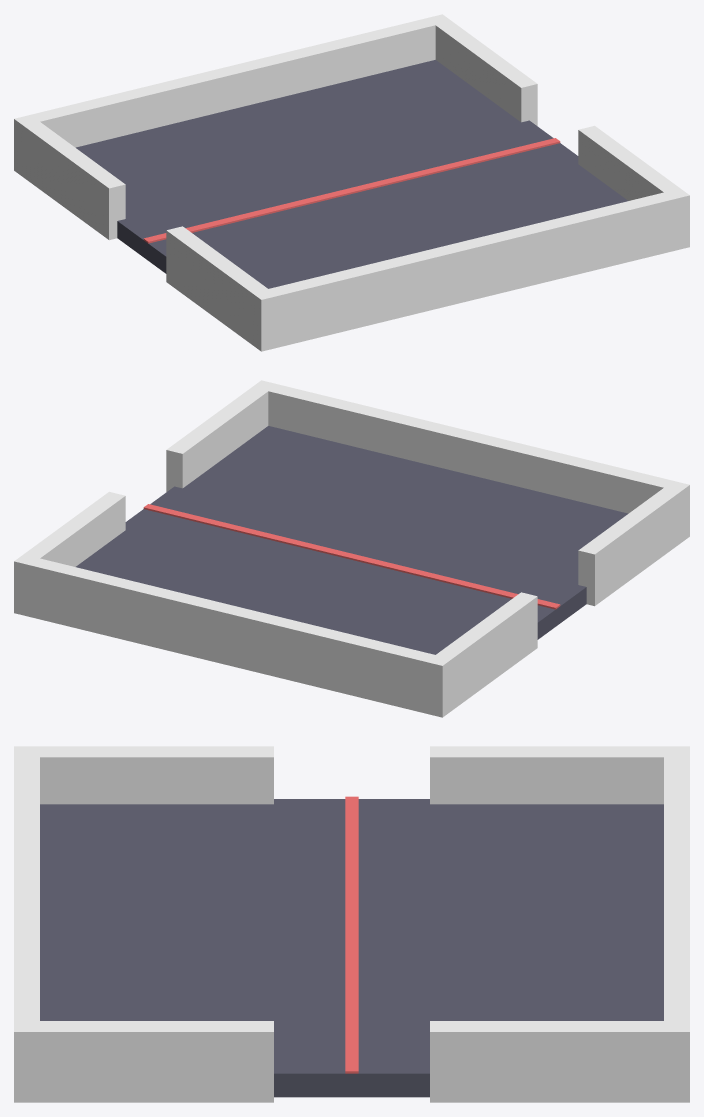
File: Pattern_I.fbx
The picture shows the model from 3 angles, top to bottom: view 1: azimuth 30°, elevation 25°; view 2: azimuth 150°, elevation 25°; view 3: azimuth 270°, elevation 25°; orthographic projection. The views are drawn at different scales.
Visible parts, largest first — view 1: Pattern_I; view 2: Pattern_I; view 3: Pattern_I.
Boxes of the visible parts, box(x1,y1,x2,y2) form: Pattern_I: box(14, 14, 689, 351); Pattern_I: box(14, 380, 689, 717); Pattern_I: box(14, 746, 689, 1102).
Bounding box in the file's own units: 26 × 3 × 26.
